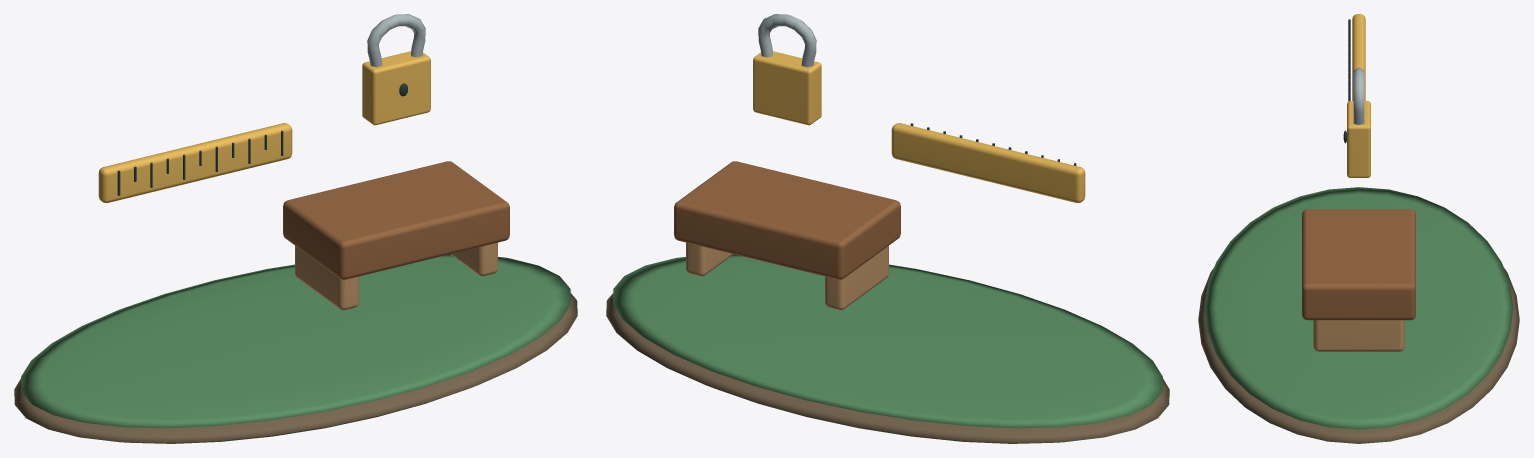
Rendered from complete-second-rule-fixed.glb.
The picture shows the model from 3 angles, left to right: view 1: azimuth 30°, elevation 25°; view 2: azimuth 150°, elevation 25°; view 3: azimuth 270°, elevation 25°; orthographic projection. The views are drawn at different scales.
Parts seen in each view (by area): view 1: complete-second-rule-fixed_surface_01, complete-second-rule-fixed_surface_04, complete-second-rule-fixed_surface_02, complete-second-rule-fixed_surface_00, complete-second-rule-fixed_surface_05, complete-second-rule-fixed_surface_06, complete-second-rule-fixed_surface_03; view 2: complete-second-rule-fixed_surface_01, complete-second-rule-fixed_surface_04, complete-second-rule-fixed_surface_02, complete-second-rule-fixed_surface_00, complete-second-rule-fixed_surface_05, complete-second-rule-fixed_surface_06; view 3: complete-second-rule-fixed_surface_01, complete-second-rule-fixed_surface_04, complete-second-rule-fixed_surface_00, complete-second-rule-fixed_surface_05, complete-second-rule-fixed_surface_02, complete-second-rule-fixed_surface_06.
Boxes of the visible parts, box(x1,y1,x2,y2) form: complete-second-rule-fixed_surface_01: box(21, 254, 570, 428); complete-second-rule-fixed_surface_04: box(283, 161, 509, 279); complete-second-rule-fixed_surface_02: box(98, 51, 430, 203); complete-second-rule-fixed_surface_00: box(14, 293, 577, 443); complete-second-rule-fixed_surface_05: box(295, 242, 497, 310); complete-second-rule-fixed_surface_06: box(367, 14, 425, 67); complete-second-rule-fixed_surface_03: box(117, 83, 407, 195); complete-second-rule-fixed_surface_01: box(613, 254, 1162, 428); complete-second-rule-fixed_surface_04: box(674, 161, 900, 279); complete-second-rule-fixed_surface_02: box(753, 51, 1085, 203); complete-second-rule-fixed_surface_00: box(606, 293, 1169, 443); complete-second-rule-fixed_surface_05: box(686, 242, 888, 310); complete-second-rule-fixed_surface_06: box(758, 14, 816, 67); complete-second-rule-fixed_surface_01: box(1204, 187, 1513, 429); complete-second-rule-fixed_surface_04: box(1302, 209, 1415, 320); complete-second-rule-fixed_surface_00: box(1198, 268, 1519, 443); complete-second-rule-fixed_surface_05: box(1313, 320, 1404, 351); complete-second-rule-fixed_surface_02: box(1347, 14, 1370, 177); complete-second-rule-fixed_surface_06: box(1353, 67, 1364, 124).
Size of the model in its own units: 4.56 by 2.66 by 2.5.
